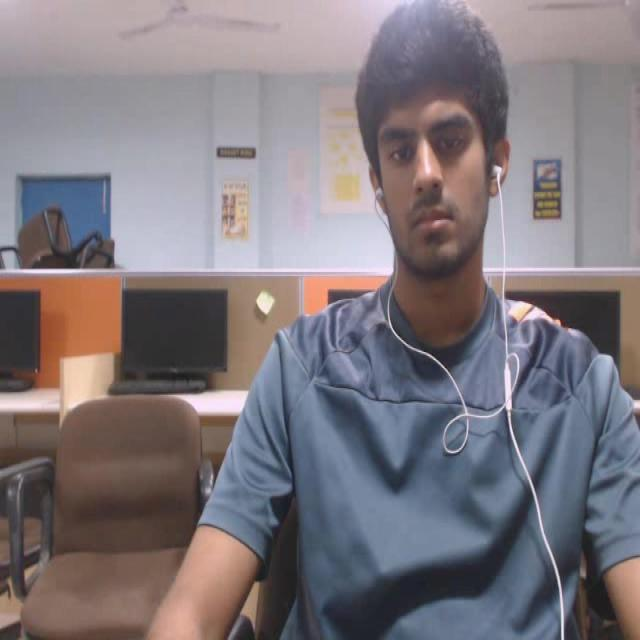Engaged: (314, 0, 548, 311)
